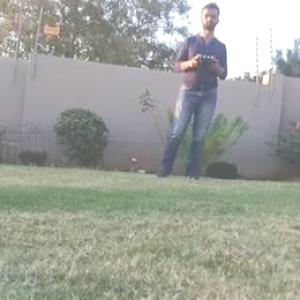follow: (149, 0, 232, 184)
